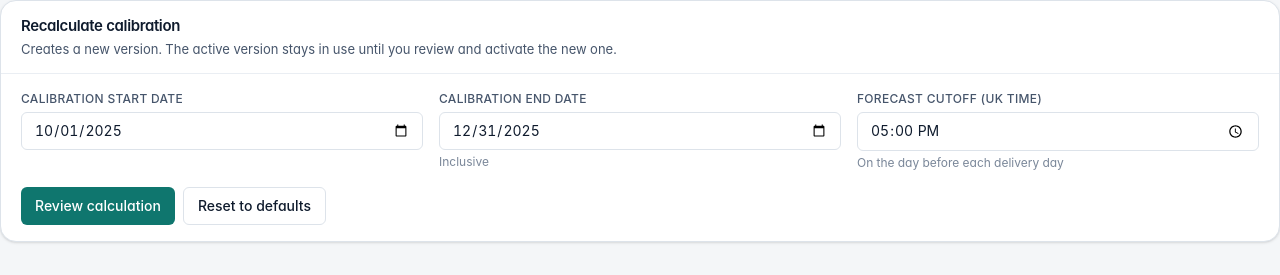
Scenario: Calibration management › rejects an end date before the start date and an end date that is too recent
In the date field labelled "Calibration end date": (640, 131) top-left (439, 112), bottom-right (841, 150), type "2025-09-30"
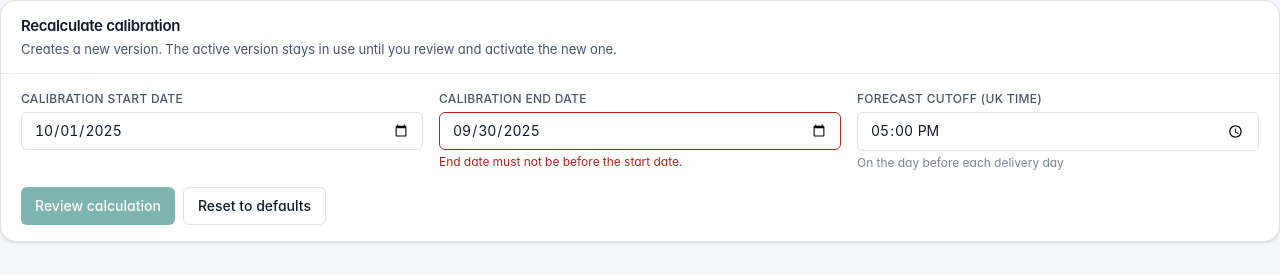
Check: the message reads "End date must not be before the start date.", box top-left (439, 154), bottom-right (682, 169)
Check: the button "Review calculation" is disabled, box top-left (21, 187), bottom-right (175, 225)
In the date field labelled "Calibration end date": (640, 131) top-left (439, 112), bottom-right (841, 150), type "2026-10-25"
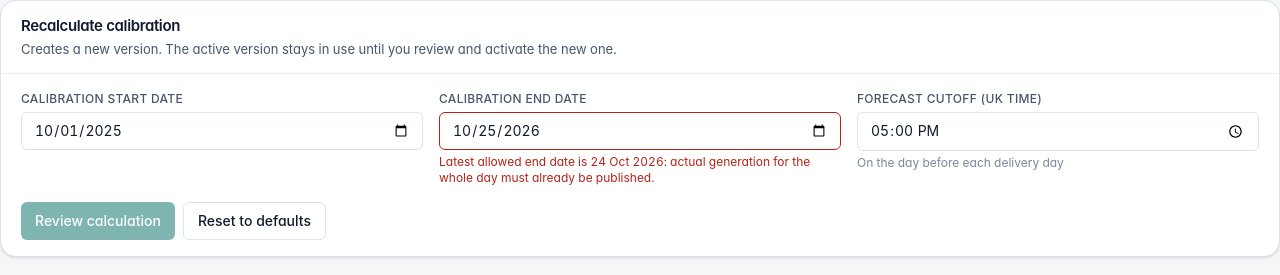
Check: the message shows "Latest allowed end date is 24 Oct 2026", box top-left (439, 154), bottom-right (810, 185)
